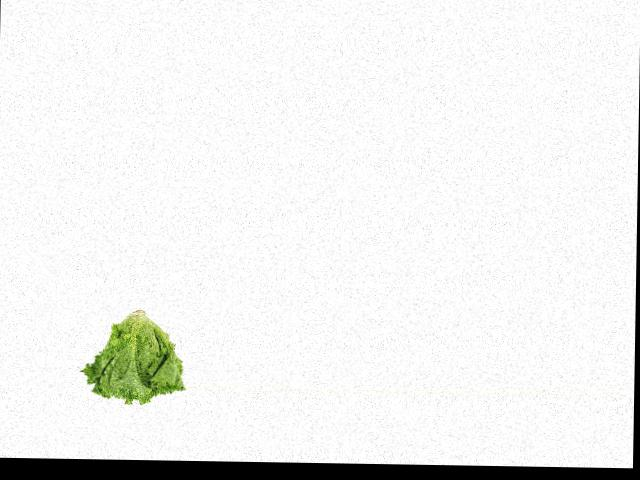lettuce: (84, 306, 188, 410)
